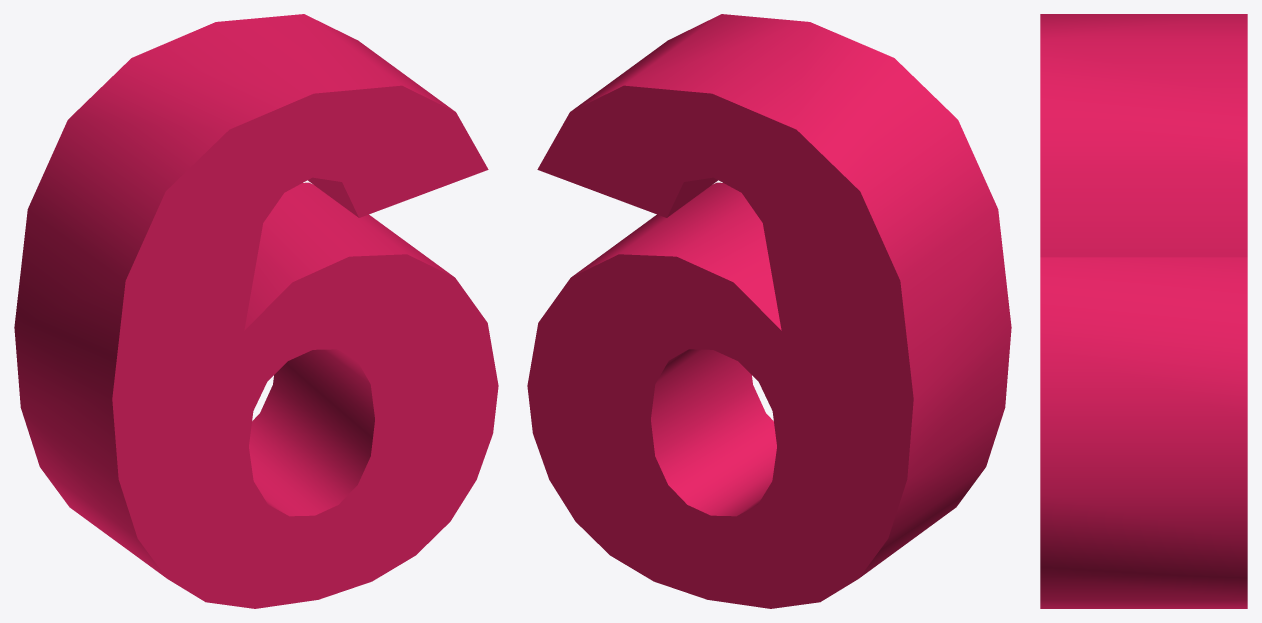
The model's file is six.glb.
3 renders of one model, left to right at view 1: azimuth 30°, elevation 25°; view 2: azimuth 150°, elevation 25°; view 3: azimuth 270°, elevation 25°, orthographic. The views are drawn at different scales.
Parts seen in each view (by area): view 1: Object_7; view 2: Object_7; view 3: Object_7.
Part boxes in pixels (box(x1,y1,x2,y2)): Object_7: box(14, 14, 498, 608); Object_7: box(527, 14, 1011, 608); Object_7: box(1040, 14, 1247, 608).
Size of the model in its own units: 9.11 by 11.44 by 4.
